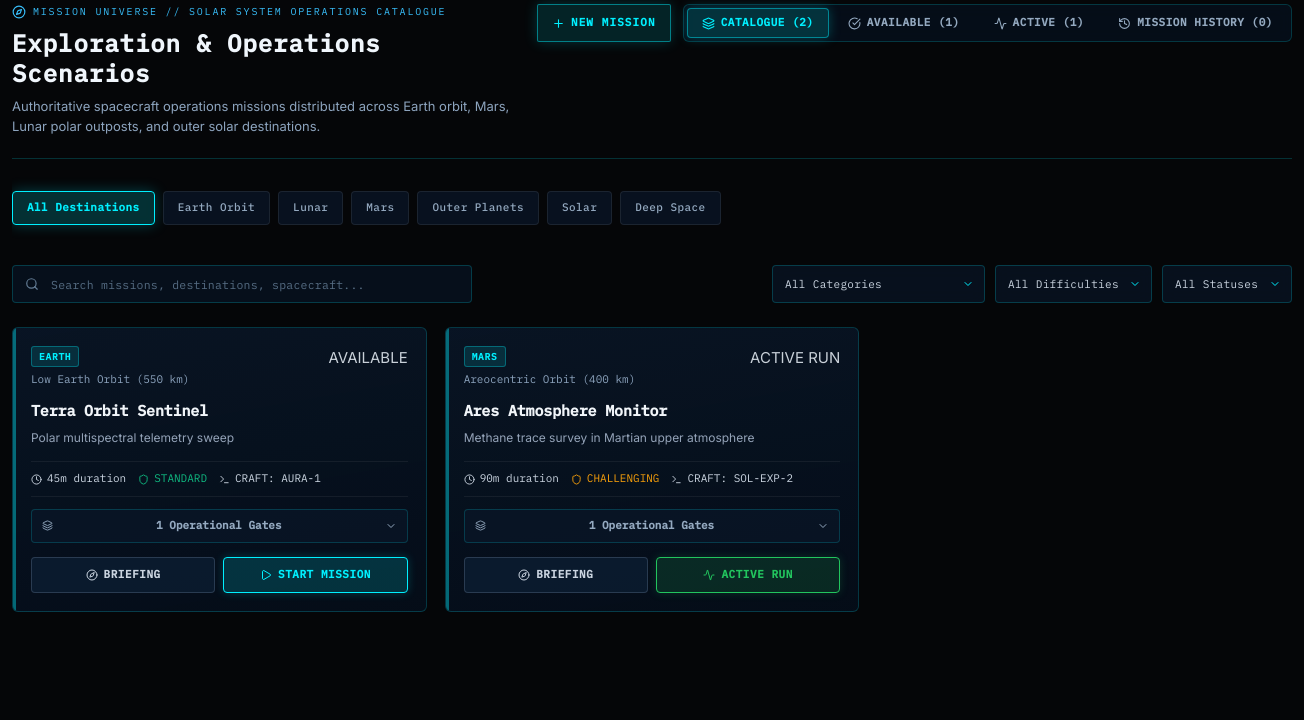
ASTRA Mission Control Operations Console › filters missions by destination, search query, and resets filters on empty state
Expected: the heading "Terra Orbit Sentinel" is shown, [31, 401, 208, 420]
Expected: the heading "Ares Atmosphere Monitor" is shown, [464, 401, 667, 420]
// Destination filter: Mars
Click the button with test id "dest-filter-Mars" at (380, 208), box [351, 191, 410, 225]
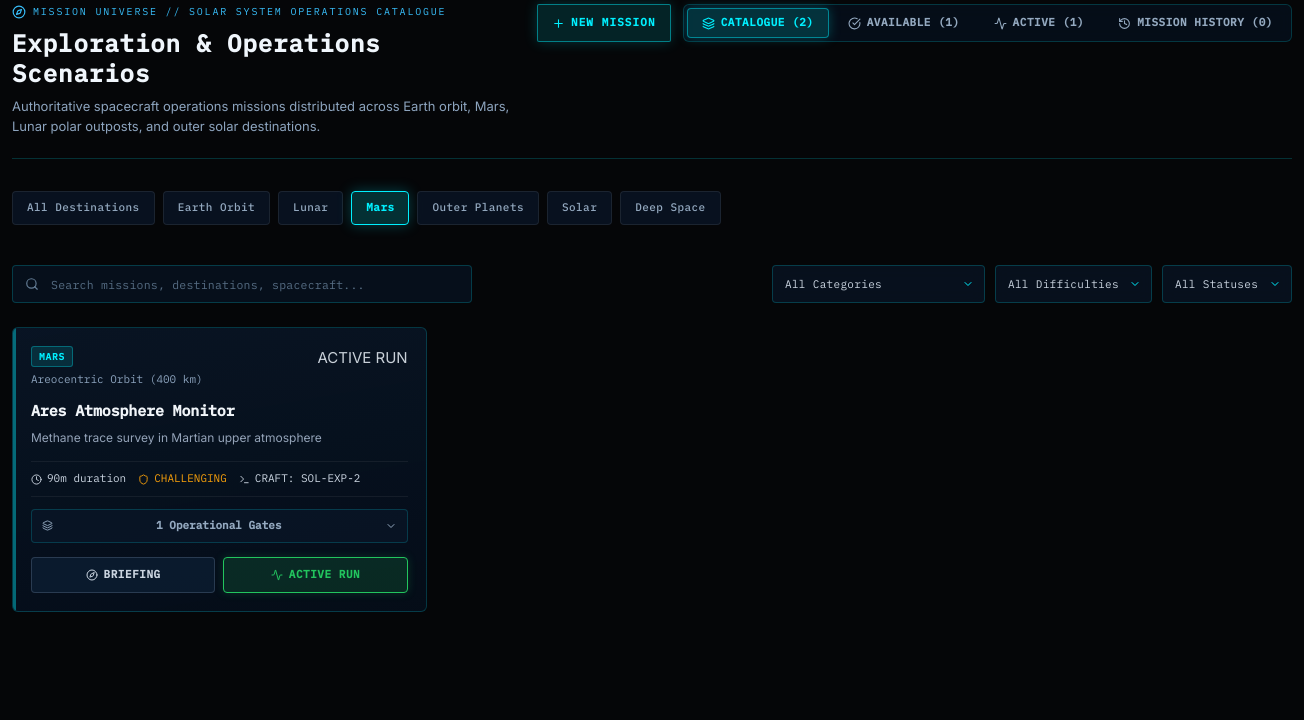
Expected: the heading "Ares Atmosphere Monitor" is shown, [31, 401, 235, 420]
Result: the heading "Terra Orbit Sentinel" is gone
// Search box: filter for something non-existent
Type "NonexistentSpacecraft" into the field named "search missions by name" at (242, 284), box [12, 265, 472, 303]
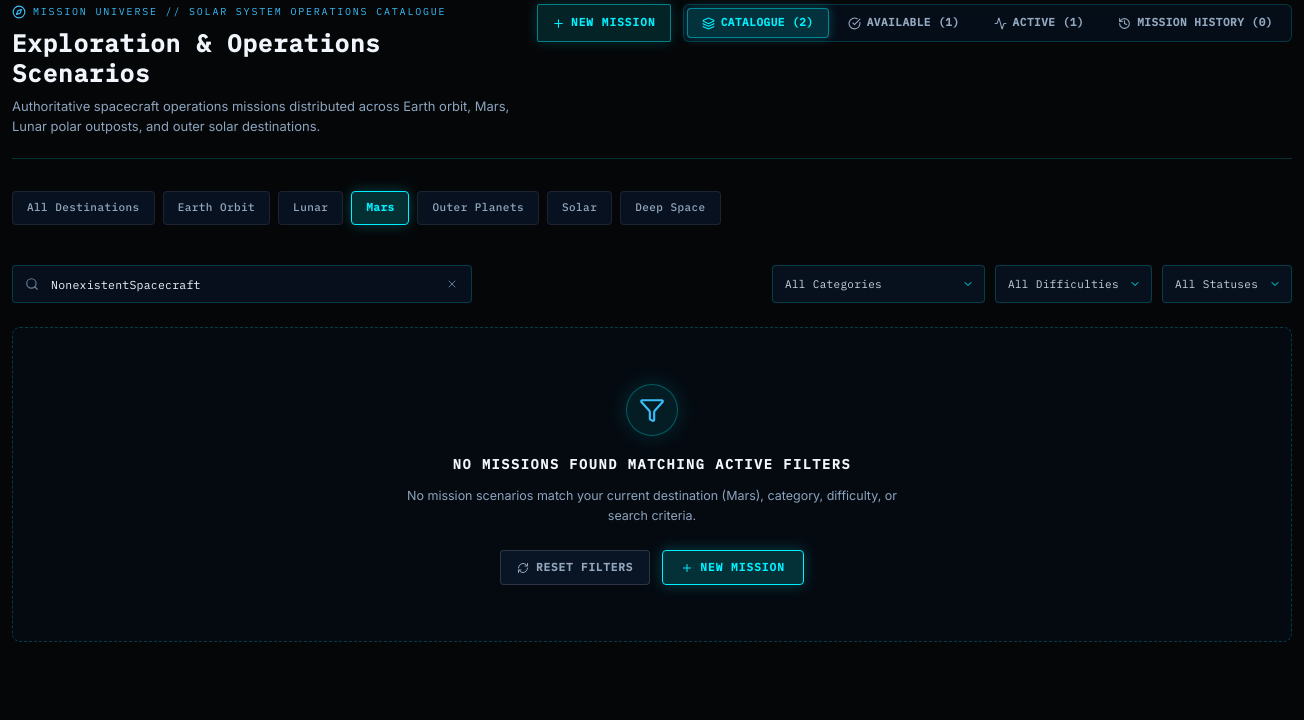
Result: the element with test id "missions-empty-state" is shown at [12, 327, 1292, 642]
Result: the heading "NO MISSIONS FOUND MATCHING ACTIVE FILTERS" is shown at [453, 454, 851, 476]
Result: the button with test id "reset-filters-btn" is shown
// Reset filters
Click the button with test id "reset-filters-btn" at (575, 568), box [500, 550, 650, 586]
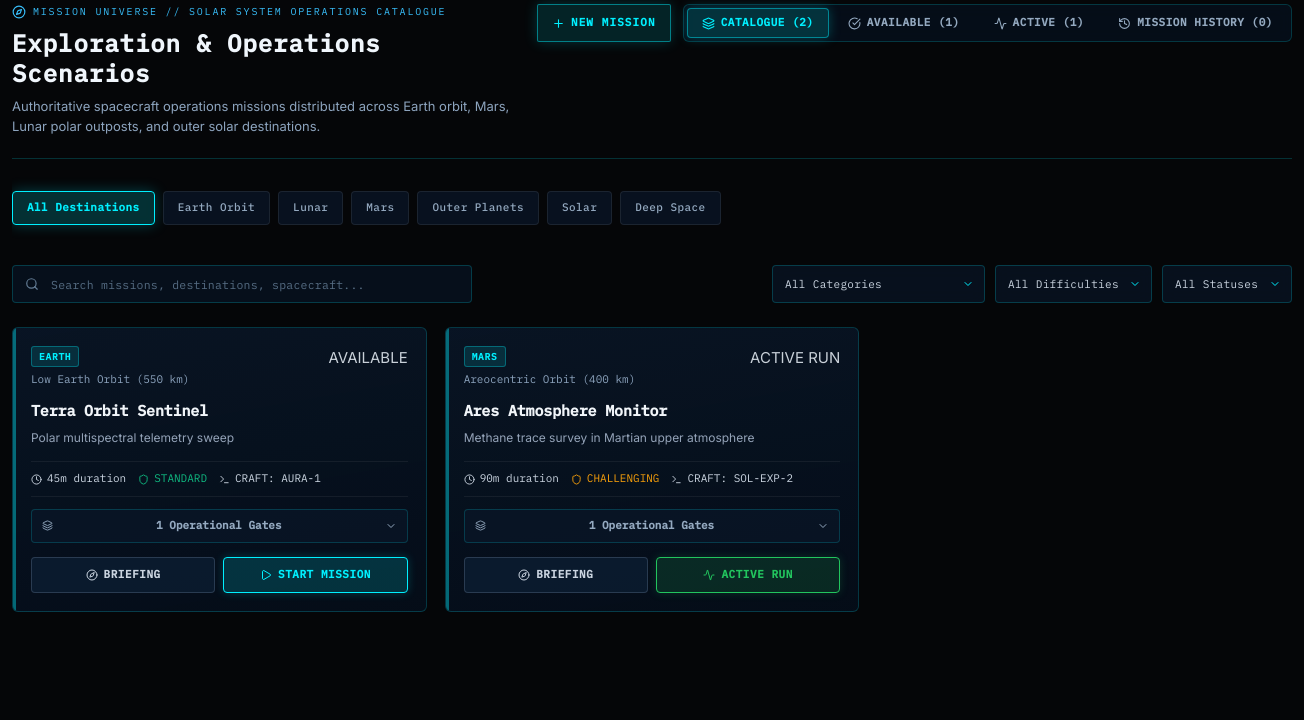
Result: the heading "Terra Orbit Sentinel" is shown at [31, 401, 208, 420]
Result: the heading "Ares Atmosphere Monitor" is shown at [464, 401, 667, 420]
